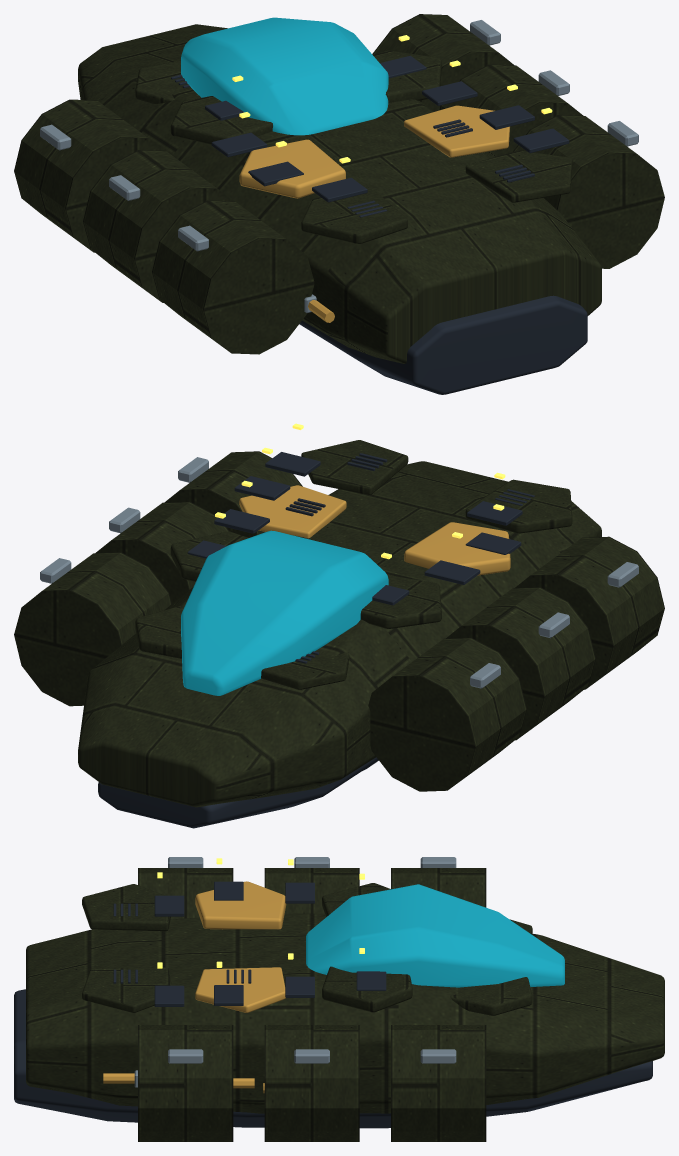
Rendered from behemoth.glb.
3 renders of one model, top to bottom at view 1: azimuth 30°, elevation 25°; view 2: azimuth 150°, elevation 25°; view 3: azimuth 270°, elevation 25°, orthographic. The views are drawn at different scales.
Visible parts, largest first — view 1: Gôndola do motor.009 · exportação, Bocal do motor.009 · exportação, Cabine panorâmica.004 · exportação, Colar da turbina.028 · exportação, Aleta do bocal.079 · exportação; view 2: Gôndola do motor.009 · exportação, Cabine panorâmica.004 · exportação, Bocal do motor.009 · exportação, Colar da turbina.028 · exportação, Aleta do bocal.079 · exportação; view 3: Gôndola do motor.009 · exportação, Cabine panorâmica.004 · exportação, Bocal do motor.009 · exportação, Colar da turbina.028 · exportação, Aleta do bocal.079 · exportação.
Part boxes in pixels (x1,y1,x2,y2): Gôndola do motor.009 · exportação: (14,14,664,363); Bocal do motor.009 · exportação: (171,55,587,394); Cabine panorâmica.004 · exportação: (181,17,388,135); Colar da turbina.028 · exportação: (239,105,509,322); Aleta do bocal.079 · exportação: (40,20,638,312); Gôndola do motor.009 · exportação: (14,440,664,807); Cabine panorâmica.004 · exportação: (181,530,388,695); Bocal do motor.009 · exportação: (98,452,534,828); Colar da turbina.028 · exportação: (239,485,510,575); Aleta do bocal.079 · exportação: (40,457,638,688); Gôndola do motor.009 · exportação: (26,868,664,1141); Cabine panorâmica.004 · exportação: (306,884,564,987); Bocal do motor.009 · exportação: (14,881,652,1128); Colar da turbina.028 · exportação: (103,881,286,1093); Aleta do bocal.079 · exportação: (134,857,456,1087).
Size of the model in its own units: 41.08 by 18.03 by 54.76.
Materials: 7 (1 with a texture image).
